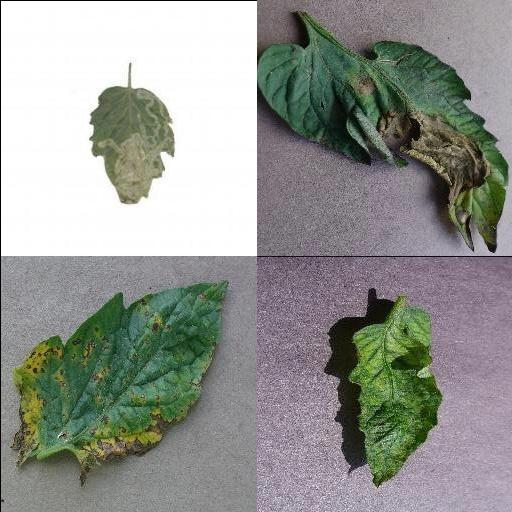Early Blight: (8, 280, 230, 481)
Late Blight: (256, 40, 510, 254)
Leaf Miner: (87, 85, 177, 205)
Mosaic Virus: (346, 308, 443, 488)
